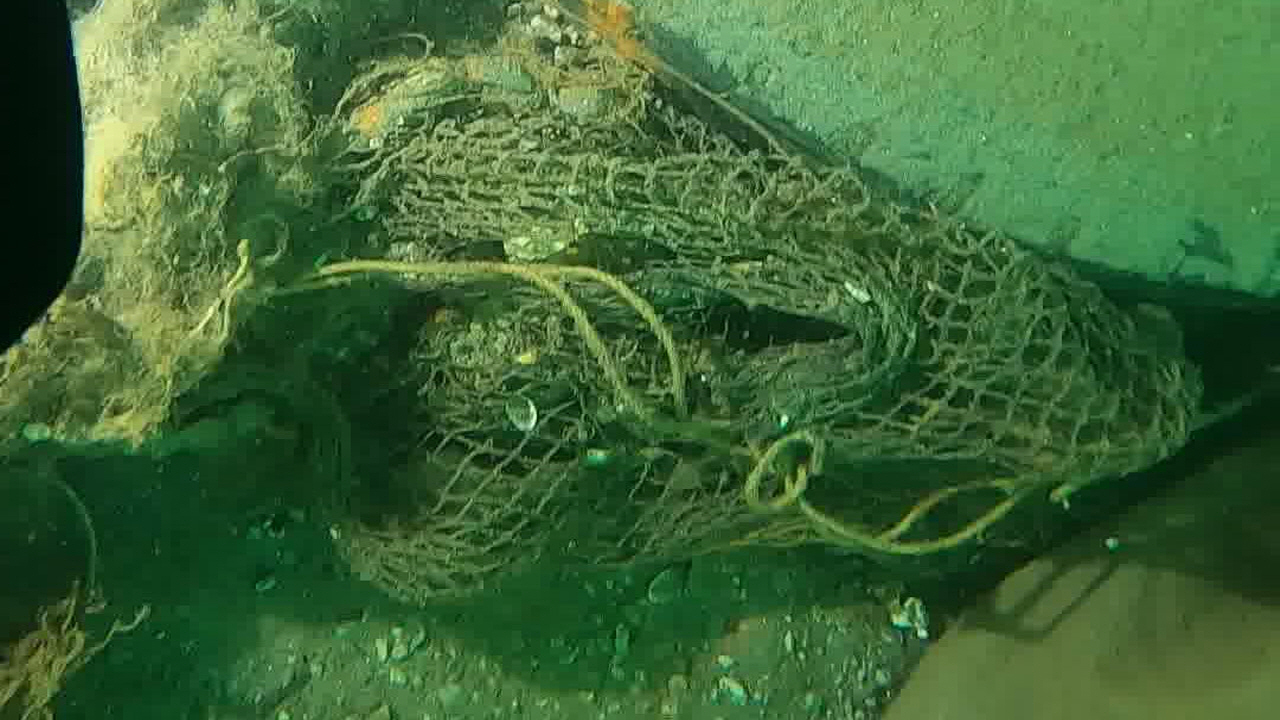bundle of ropes: (295, 257, 1036, 550)
fish net: (329, 63, 1204, 610)
